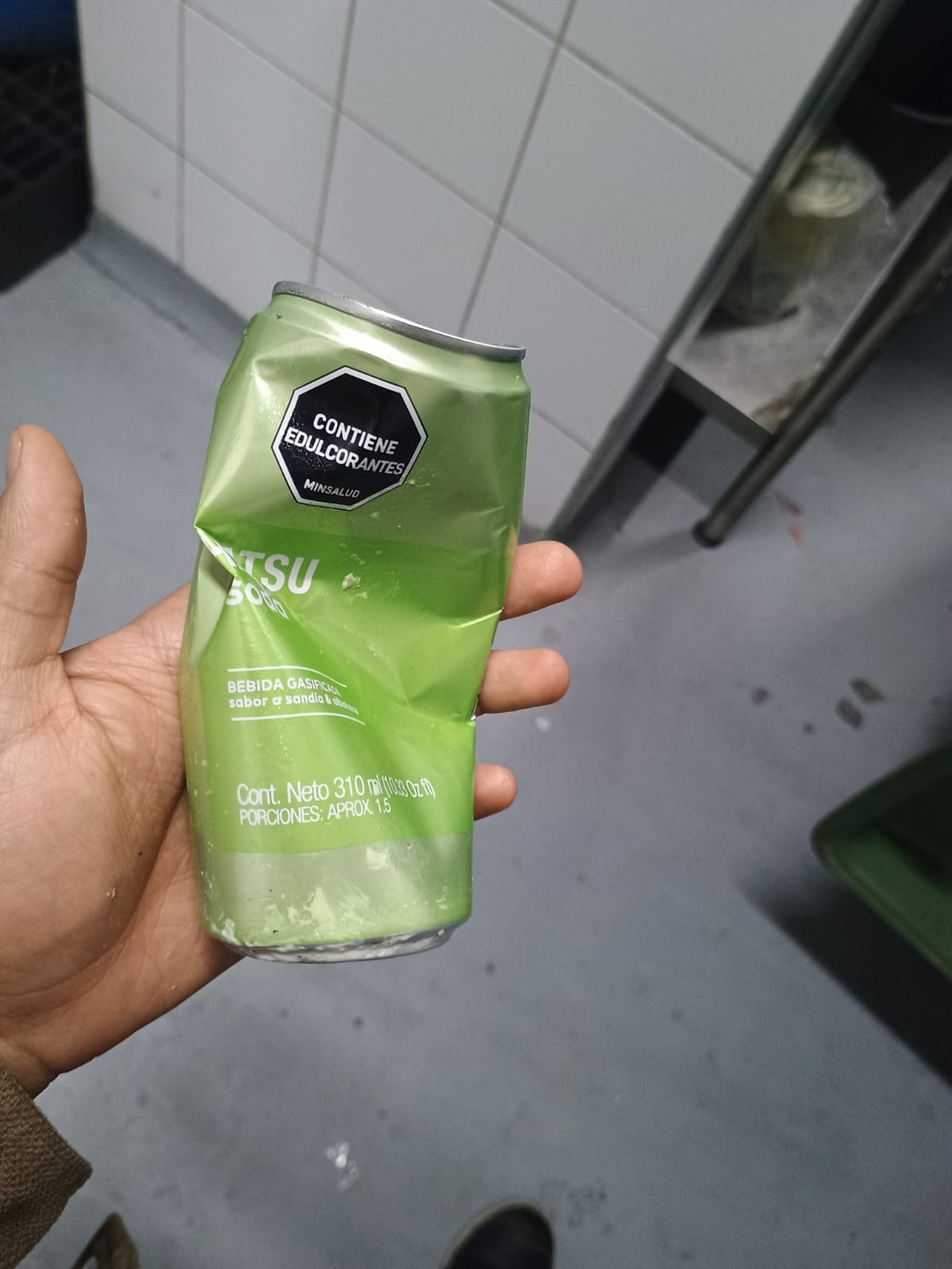Metal: (179, 280, 526, 968)
